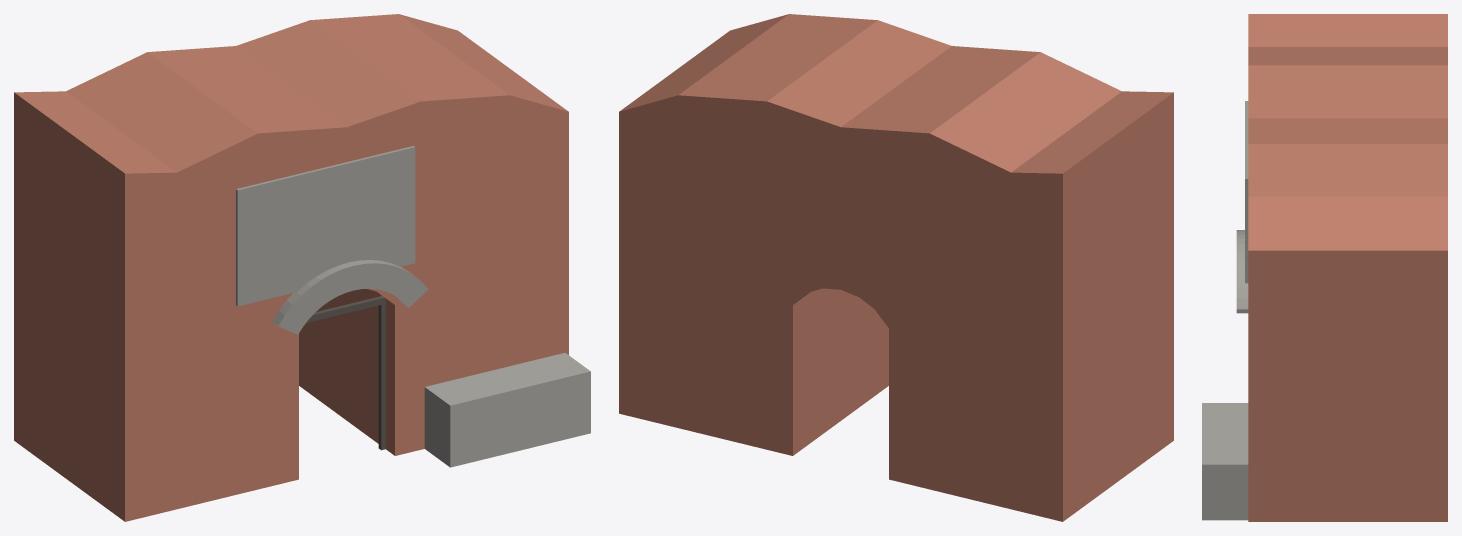
File: cave-exit.glb
The picture shows the model from 3 angles, left to right: view 1: azimuth 30°, elevation 25°; view 2: azimuth 150°, elevation 25°; view 3: azimuth 270°, elevation 25°; orthographic projection. The views are drawn at different scales.
Parts seen in each view (by area): view 1: Gate Bar; view 2: Gate Bar; view 3: Gate Bar.
Part boxes in pixels (bbox=[...]): Gate Bar: bbox=[14, 14, 590, 521]; Gate Bar: bbox=[619, 14, 1173, 521]; Gate Bar: bbox=[1202, 14, 1447, 521].
Bounding box in the file's own units: 6 × 4.6 × 3.2.
